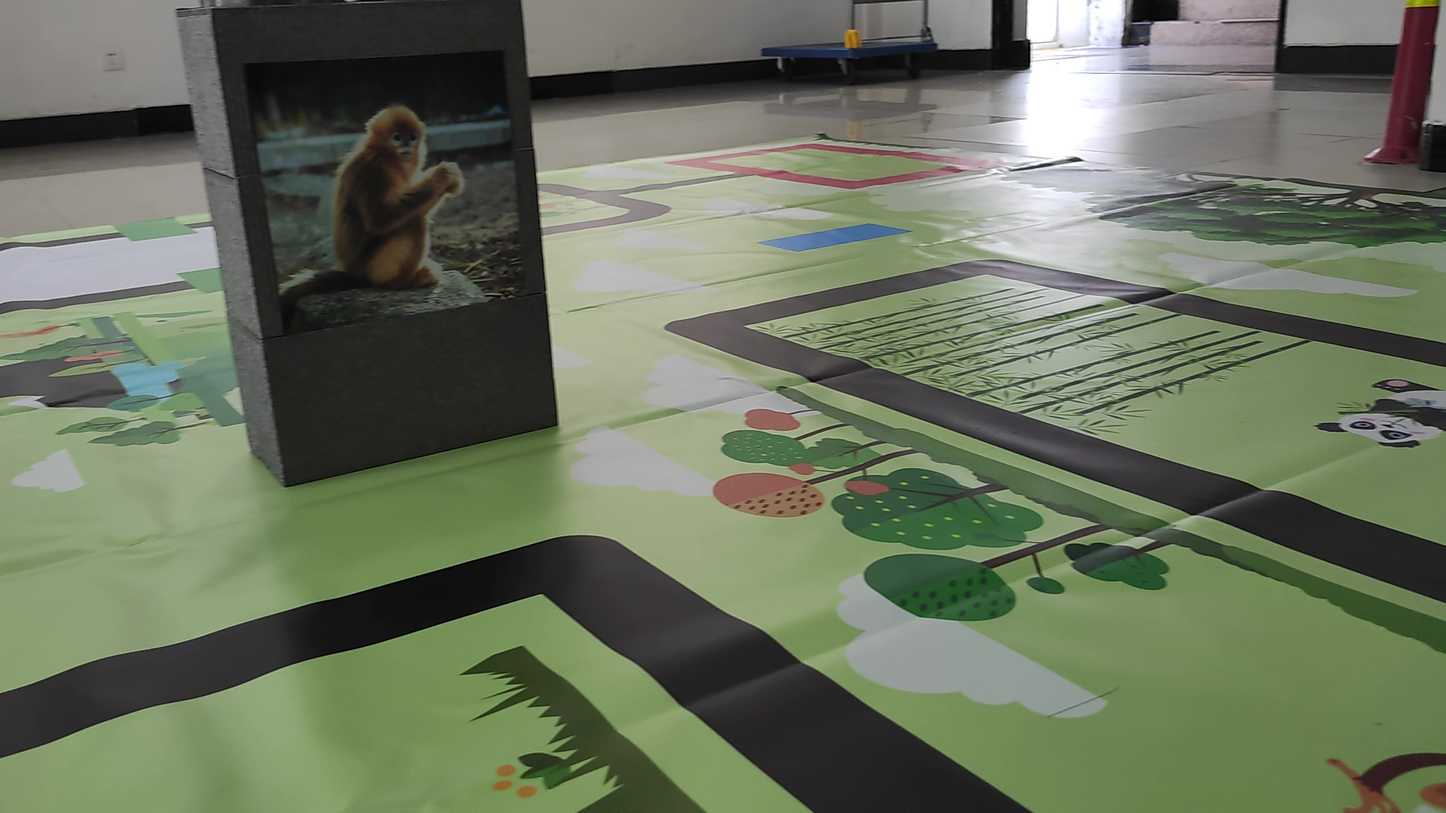monkey: (262, 94, 489, 321)
